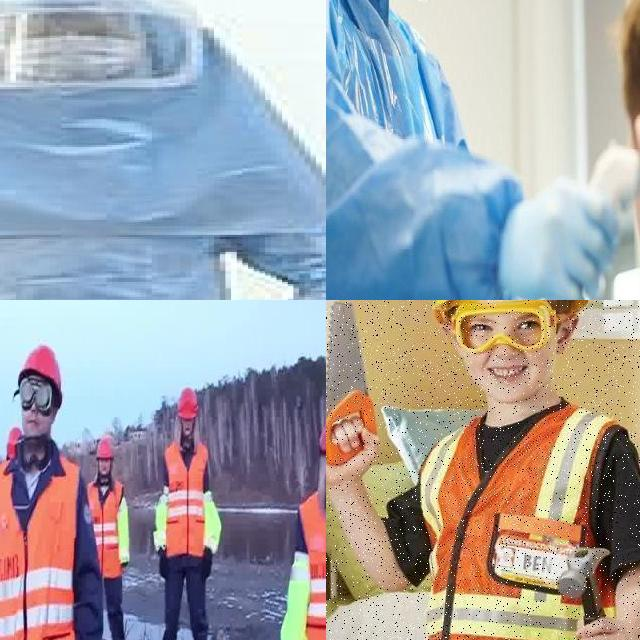GLASS: (456, 301, 560, 353)
Glove: (497, 185, 625, 300)
HELMET: (430, 300, 595, 328), (19, 347, 62, 395), (178, 389, 198, 419), (6, 428, 22, 461), (315, 415, 326, 456), (93, 440, 115, 460)
MASK: (0, 34, 149, 81)
VEST: (418, 408, 626, 640), (0, 453, 79, 640), (165, 436, 211, 556), (295, 489, 326, 640), (86, 476, 126, 578)
